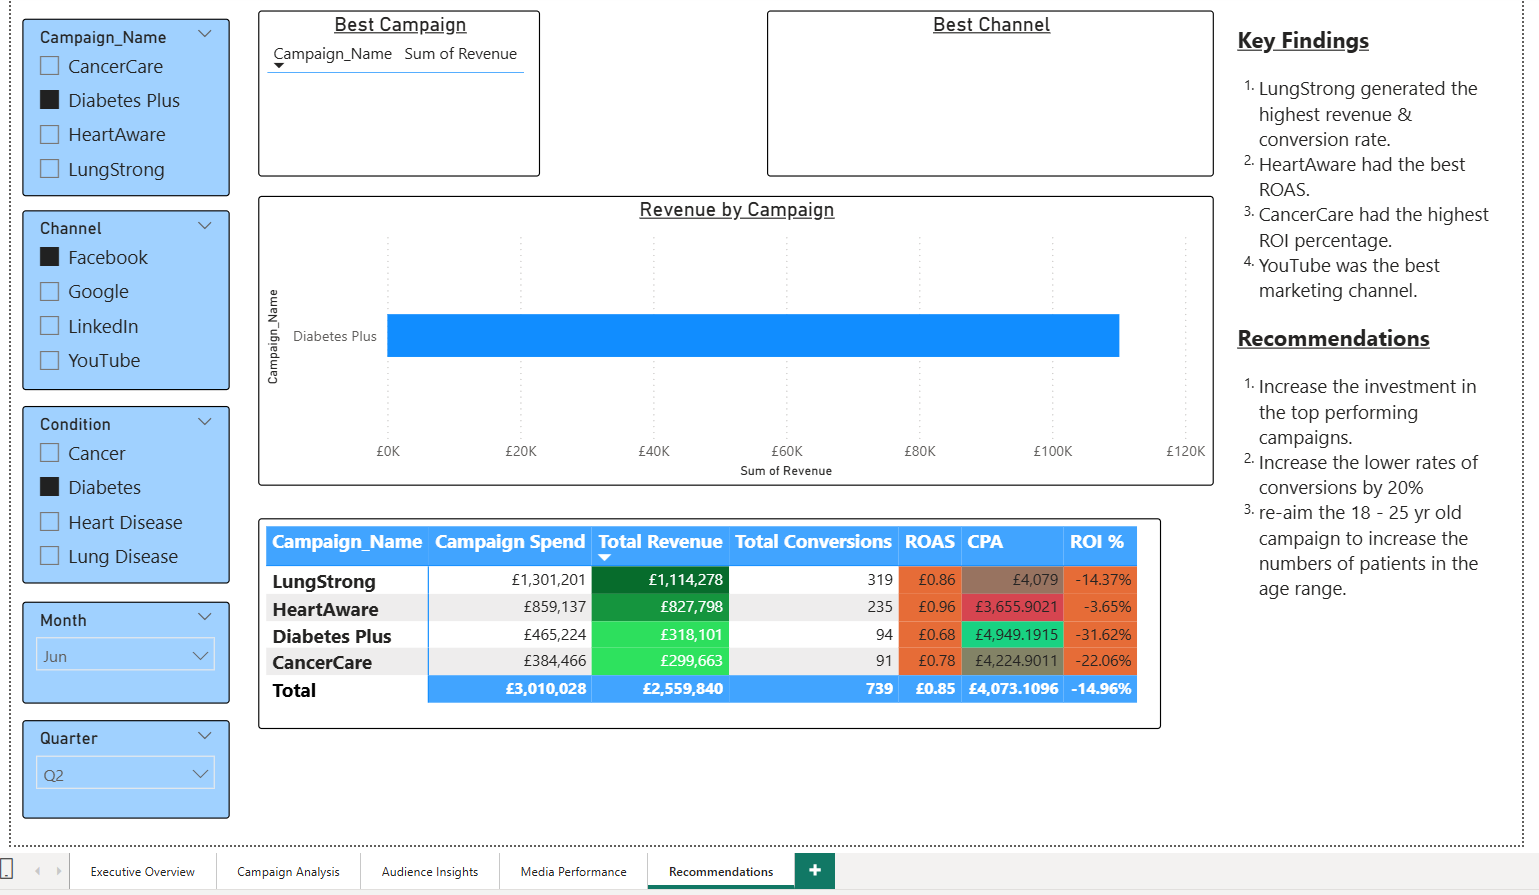

What the dashboard file says about the page in this screenshot:
{"tool":"powerbi","page":{"name":"Recommendations","canvas":[1280,720],"ordinal":4},"visuals":[{"type":"slicer","fields":{"Values":["Dashboard_Data(in).Campaign_Name"]},"box":[9.9,19.7,175.5,150.5],"z":0},{"type":"slicer","fields":{"Values":["Dashboard_Data(in).Channel"]},"box":[9.9,182.7,175.5,152.3],"z":1},{"type":"slicer","fields":{"Values":["Dashboard_Data(in).Condition"]},"box":[9.9,348.4,175.5,150.5],"z":2},{"type":"slicer","fields":{"Values":["DateTable.Month"]},"box":[9.9,514.1,175.5,86],"z":3},{"type":"slicer","fields":{"Values":["DateTable.Quarter"]},"box":[9.9,614.4,175.5,83.3],"z":4},{"type":"pivotTable","fields":{"Rows":["clean_campaign.Campaign_Name"],"Values":["Measure.Campaign Spend","Measure.Total Revenue","Measure.Total Conversions","Measure.ROAS","Measure.CPA","Measure.ROI %"]},"box":[209.6,443.3,764.9,178.2],"z":5},{"type":"tableEx","title":"Best Campaign","fields":{"Values":["Dashboard_Data(in).Campaign_Name","Sum(Dashboard_Data(in).Revenue)"]},"box":[209.6,13.4,239.1,140.6],"z":6},{"type":"clusteredColumnChart","title":"Best Channel","fields":{"Category":["Dashboard_Data(in).Channel"],"Y":["Sum(Dashboard_Data(in).Revenue)"]},"box":[640.4,13.4,378.8,140.6],"z":7},{"type":"clusteredBarChart","title":"Revenue by Campaign","fields":{"Category":["Dashboard_Data(in).Campaign_Name"],"Y":["Sum(Dashboard_Data(in).Revenue)"]},"box":[209.6,170.2,809.6,245.4],"z":8},{"type":"textbox","box":[1034.2,20.1,233.9,530.6],"z":9}]}

Visuals, with their boxes in screenshot pixels (x1, y1, x2, y2):
slicer - Dashboard_Data(in).Campaign_Name: bbox=[16, 11, 224, 190]
slicer - Dashboard_Data(in).Channel: bbox=[16, 205, 224, 385]
slicer - Dashboard_Data(in).Condition: bbox=[16, 401, 224, 580]
slicer - DateTable.Month: bbox=[16, 598, 224, 700]
slicer - DateTable.Quarter: bbox=[16, 716, 224, 815]
pivotTable - clean_campaign.Campaign_Name x Measure.Campaign Spend: bbox=[253, 514, 1159, 725]
"Best Campaign" tableEx: bbox=[253, 4, 536, 171]
"Best Channel" clusteredColumnChart: bbox=[763, 4, 1212, 171]
"Revenue by Campaign" clusteredBarChart: bbox=[253, 190, 1212, 481]
textbox: bbox=[1230, 12, 1508, 641]
